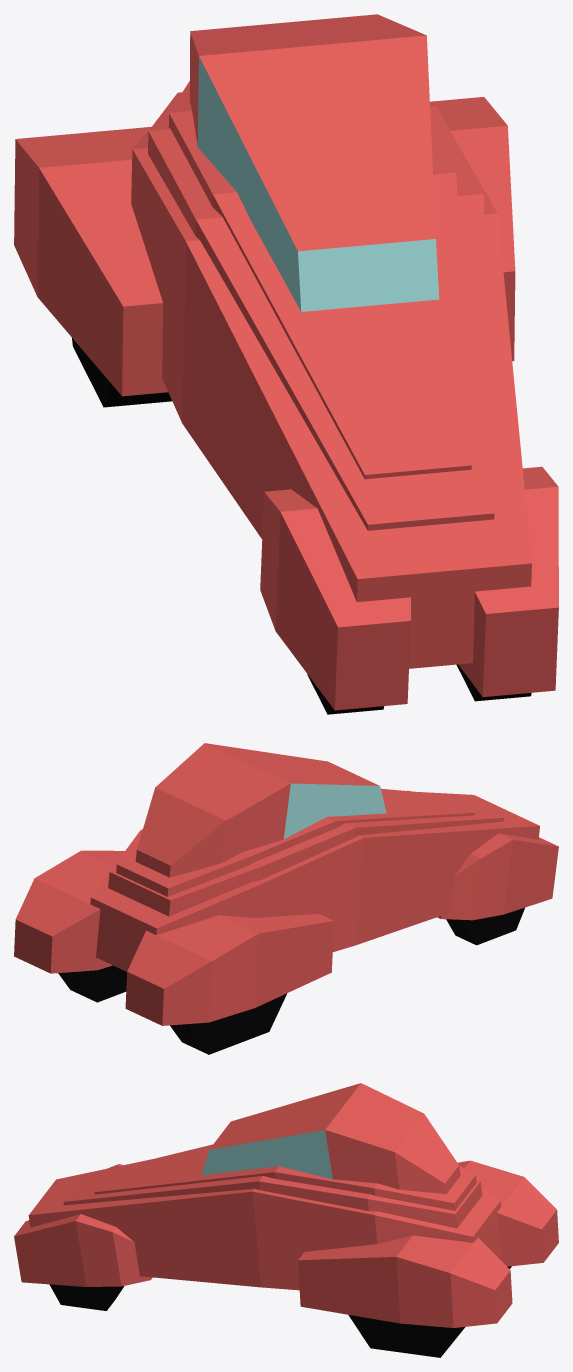
The model's file is Car.gltf.
The picture shows the model from 3 angles, top to bottom: view 1: azimuth 30°, elevation 25°; view 2: azimuth 150°, elevation 25°; view 3: azimuth 270°, elevation 25°; orthographic projection. The views are drawn at different scales.
Parts seen in each view (by area): view 1: Car1_pCylinder2; view 2: Car1_pCylinder2; view 3: Car1_pCylinder2.
Boxes of the visible parts, left/top/right/bottom form: Car1_pCylinder2: left=14, top=14, right=558, bottom=714; Car1_pCylinder2: left=14, top=743, right=558, bottom=1054; Car1_pCylinder2: left=14, top=1083, right=558, bottom=1357.
Bounding box in the file's own units: 0.9626 × 0.7169 × 1.65.
